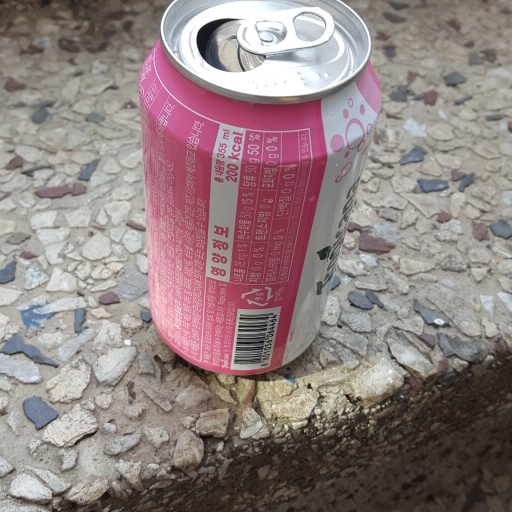Metal_0: (138, 1, 383, 377)
